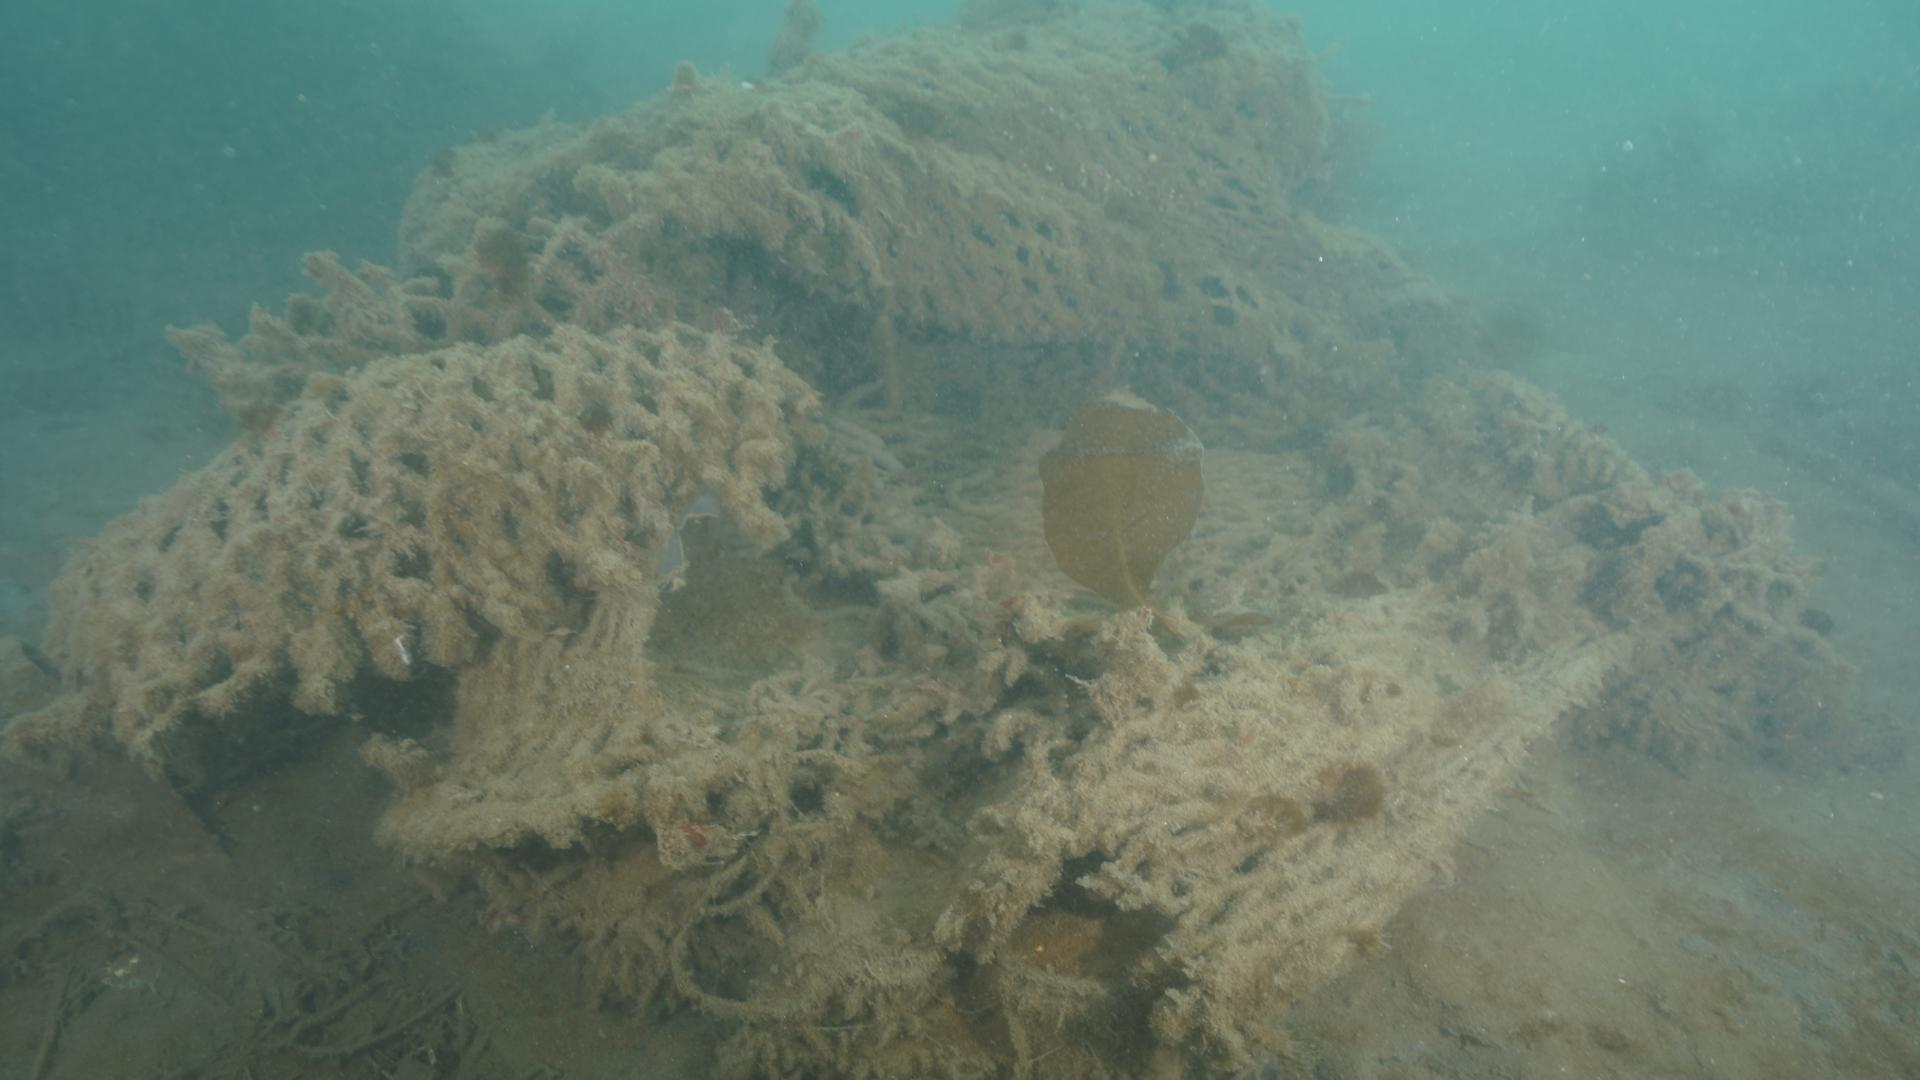fish net: (63, 0, 1323, 709)
